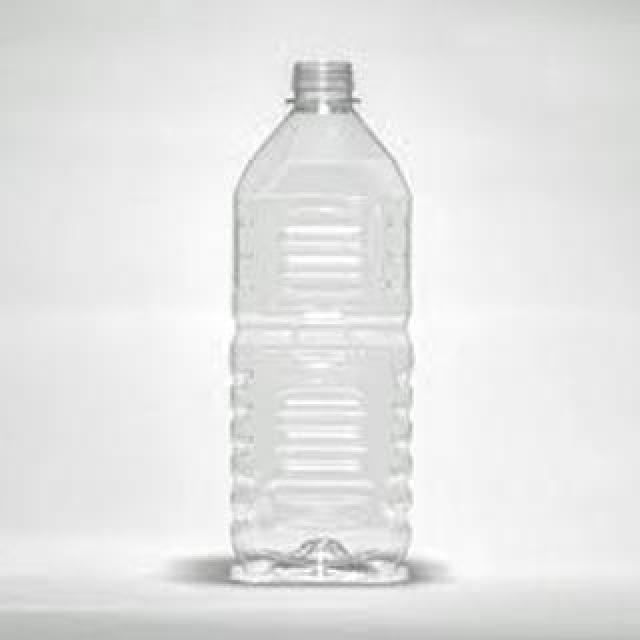Pet_Bottle: (217, 56, 425, 584)
